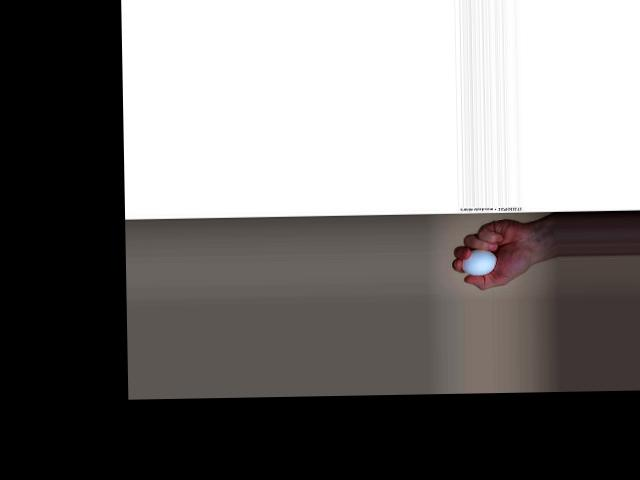egg: (462, 249, 498, 275)
